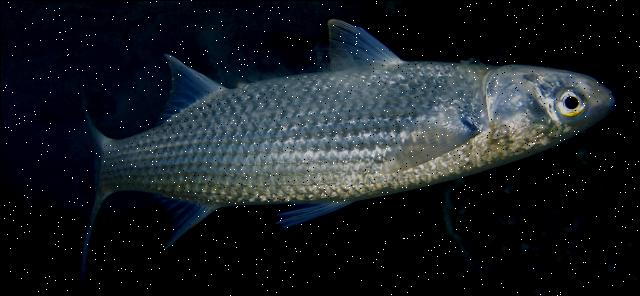Mulut: (584, 73, 624, 123)
Sirip Anal: (149, 43, 225, 129)
Sirip Dada: (374, 101, 478, 172)
Sirip Ekor: (62, 82, 102, 286)
Sirip Perut: (305, 9, 399, 81)
Sirip Punggung: (143, 181, 347, 256)
